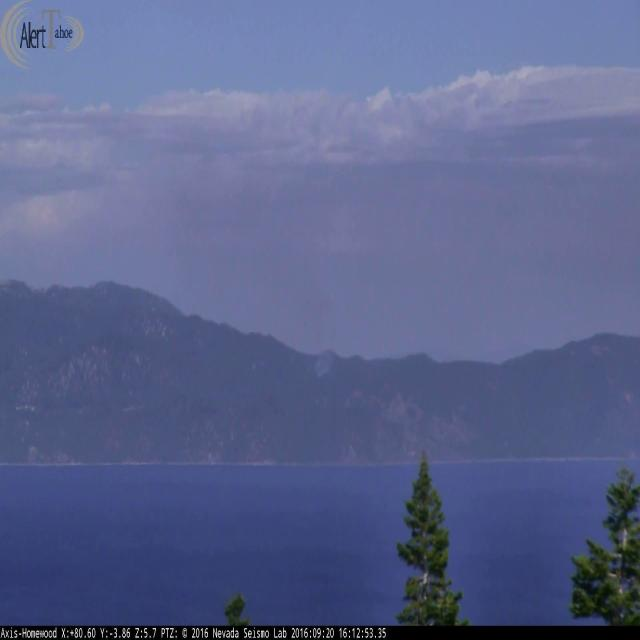smoke: (316, 327, 348, 383)
